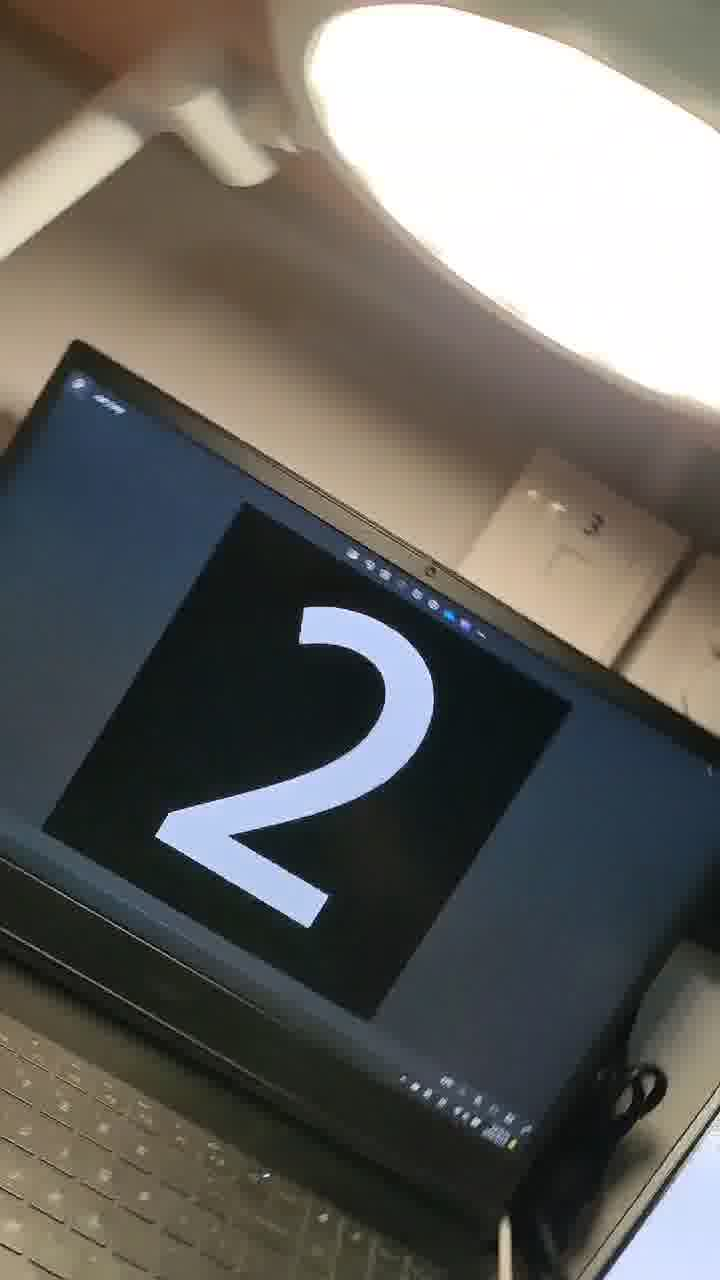two: (183, 565, 457, 957)
